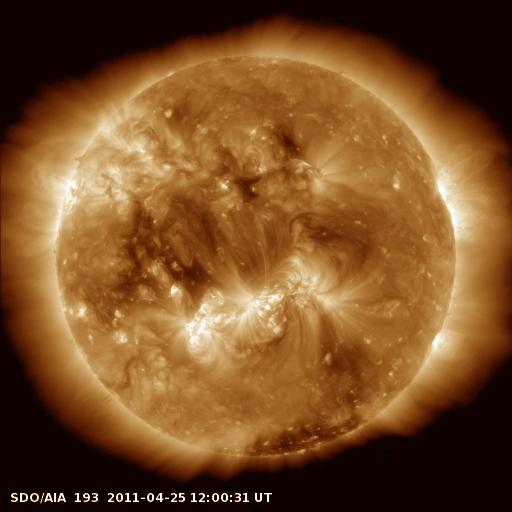coronal_hole: (240, 416, 367, 466)
